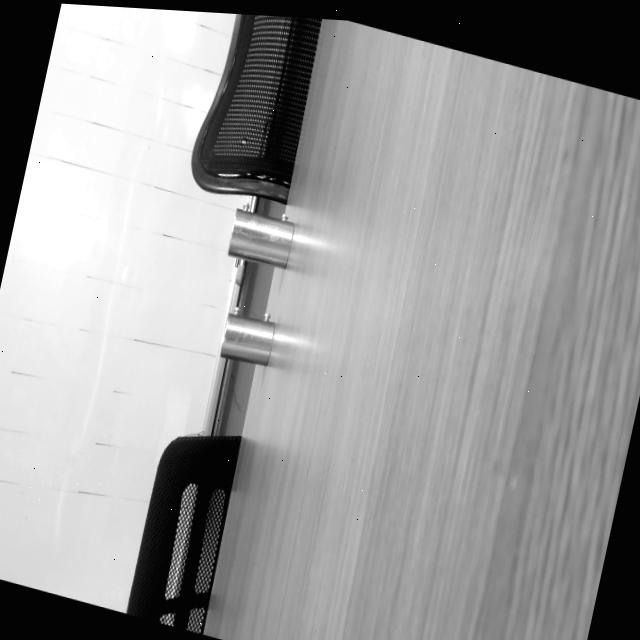Co_Lon: (225, 198, 297, 268)
Co_Nho: (219, 305, 277, 365)
